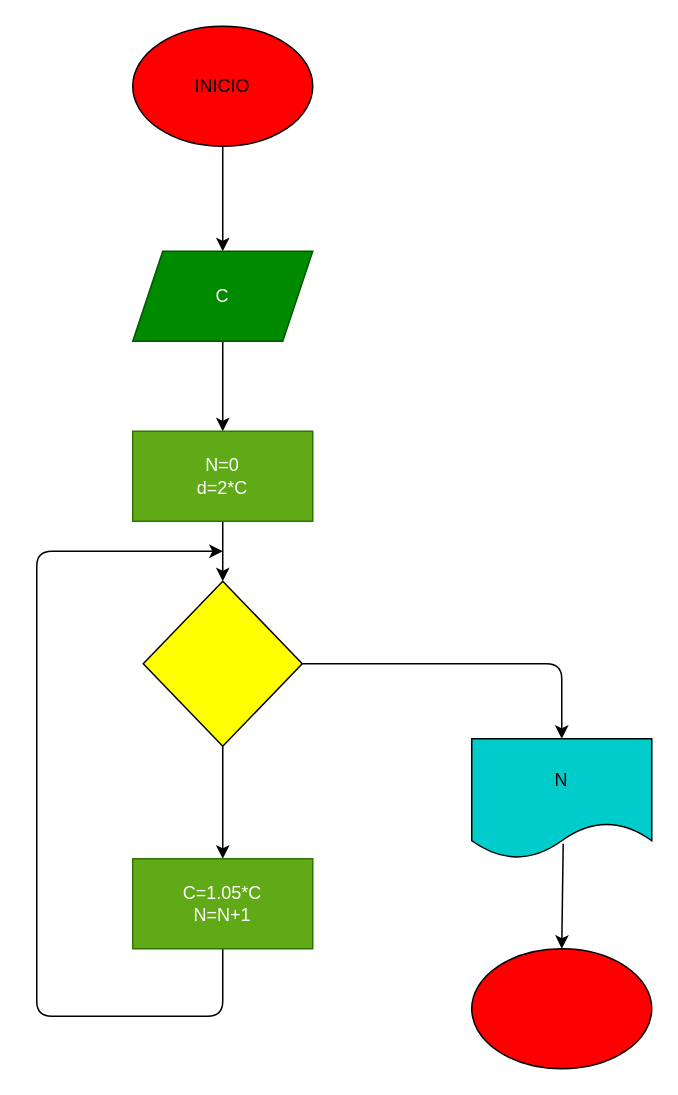
Some shapes in this 678 by 1095 pixel diagram are drawn without their labels. The centre of each missing label's shape, as x and y in pixels:
C<=d: (x=222, y=663)
FIN: (x=561, y=1008)
